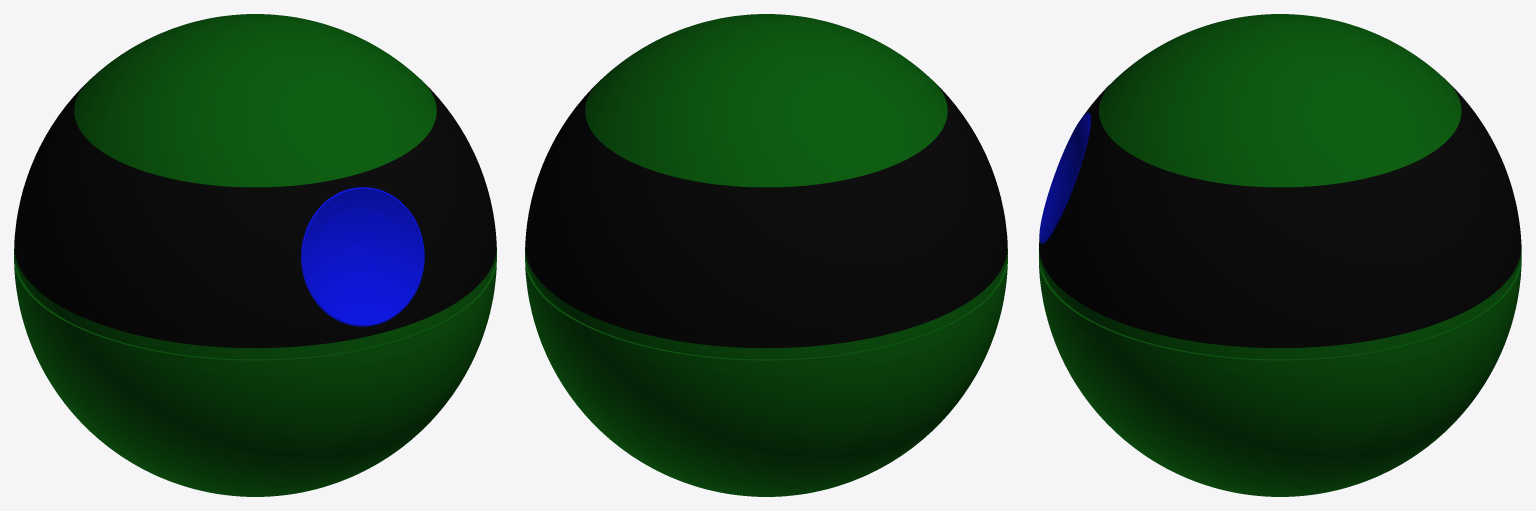
The model's file is DeathStar.fbx.
3 views of the same model, side by side, from view 1: azimuth 30°, elevation 25°; view 2: azimuth 150°, elevation 25°; view 3: azimuth 270°, elevation 25° (orthographic).
Parts seen in each view (by area): view 1: DeathStar001, DeathStar_misa001; view 2: DeathStar001; view 3: DeathStar001, DeathStar_misa001.
Part boxes in pixels (box(x1,y1,x2,y2)): DeathStar001: box(14, 14, 496, 496); DeathStar_misa001: box(301, 187, 424, 326); DeathStar001: box(525, 14, 1007, 496); DeathStar001: box(1039, 14, 1521, 496); DeathStar_misa001: box(1039, 112, 1090, 243).
Bounding box in the file's own units: 99.97 × 100 × 100.
